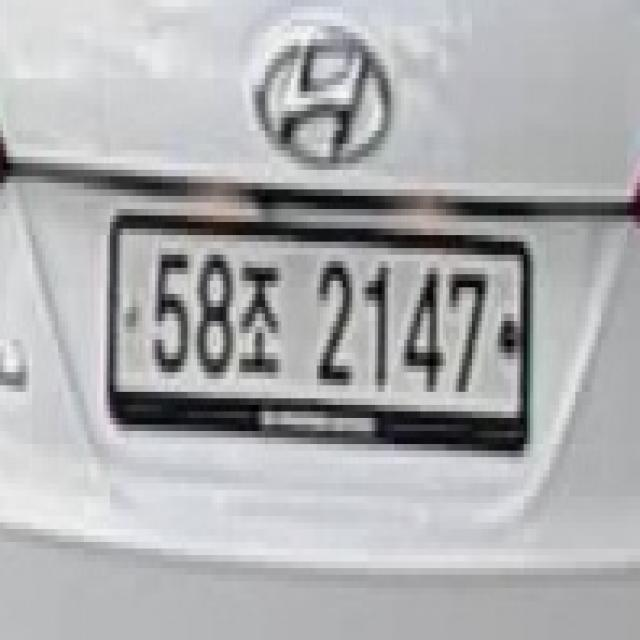1: (360, 261, 396, 395)
2: (311, 255, 355, 388)
4: (403, 264, 446, 398)
5: (146, 242, 191, 372)
7: (448, 266, 489, 396)
8: (194, 246, 233, 378)
jo: (239, 254, 283, 384)
license_plate: (98, 194, 539, 482)
